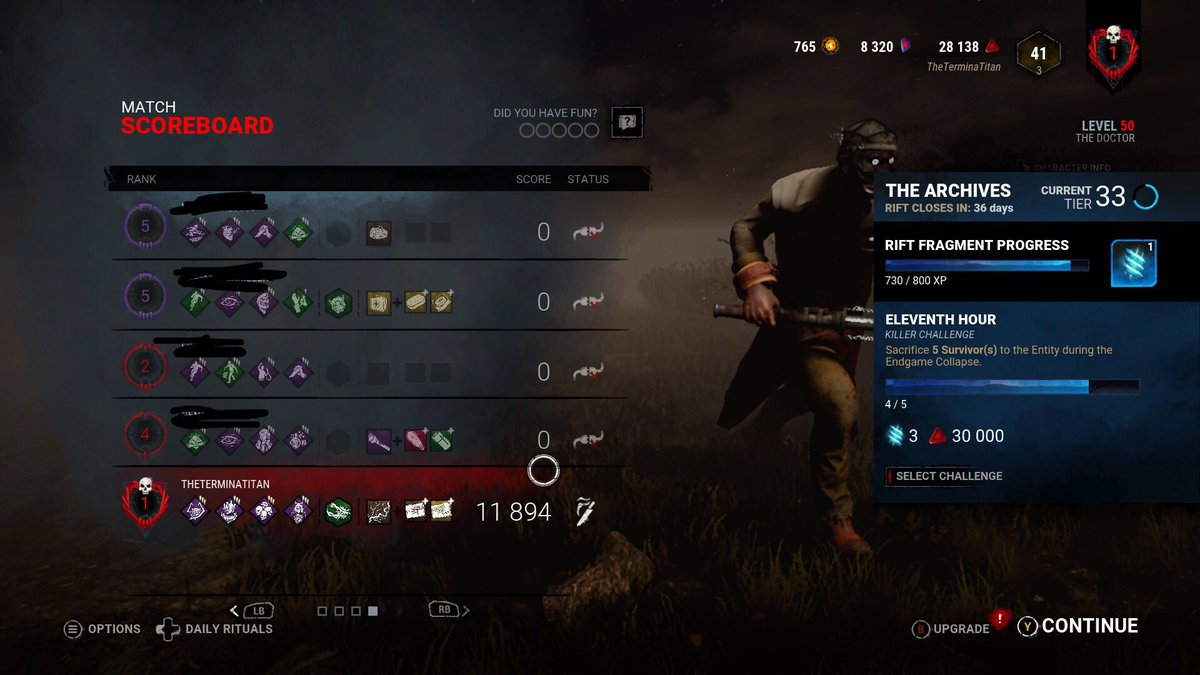adrenaline: (214, 217, 245, 247)
bbq_and_chilli: (215, 496, 246, 526)
dead_hard: (179, 286, 210, 316), (179, 356, 210, 386)
decisive_strike: (249, 216, 280, 246), (283, 356, 314, 386)
detectives_hunch: (283, 425, 314, 455)
hex:ruin: (180, 496, 211, 526)
inner_healing: (249, 426, 280, 456)
iron_will: (284, 217, 315, 247), (179, 425, 210, 455)
kindred: (214, 287, 245, 317), (215, 425, 246, 455)
lithe: (180, 217, 211, 247)
self_care: (283, 286, 314, 316)
surveillance: (284, 496, 315, 526)
thanatophobia: (249, 496, 280, 526)
unbreakable: (249, 287, 280, 317)
well_make_it: (249, 356, 280, 386)
were_gonna_live_forever: (214, 356, 245, 386)
